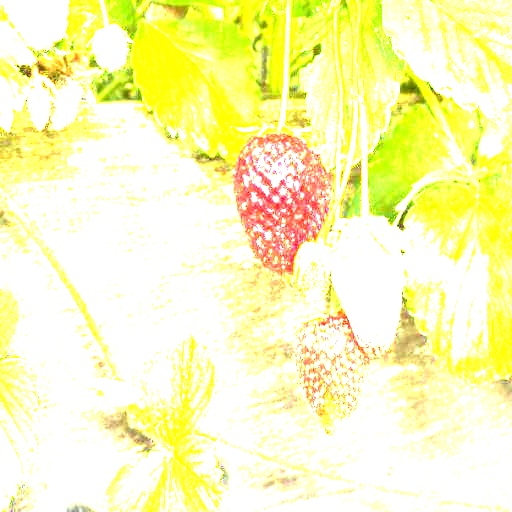Gray Mold: (330, 215, 412, 361), (46, 74, 96, 132), (23, 73, 59, 132)
